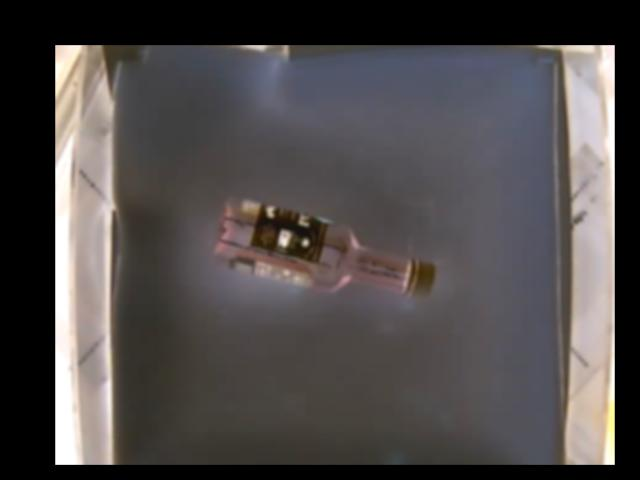Bottle: (212, 198, 438, 303)
